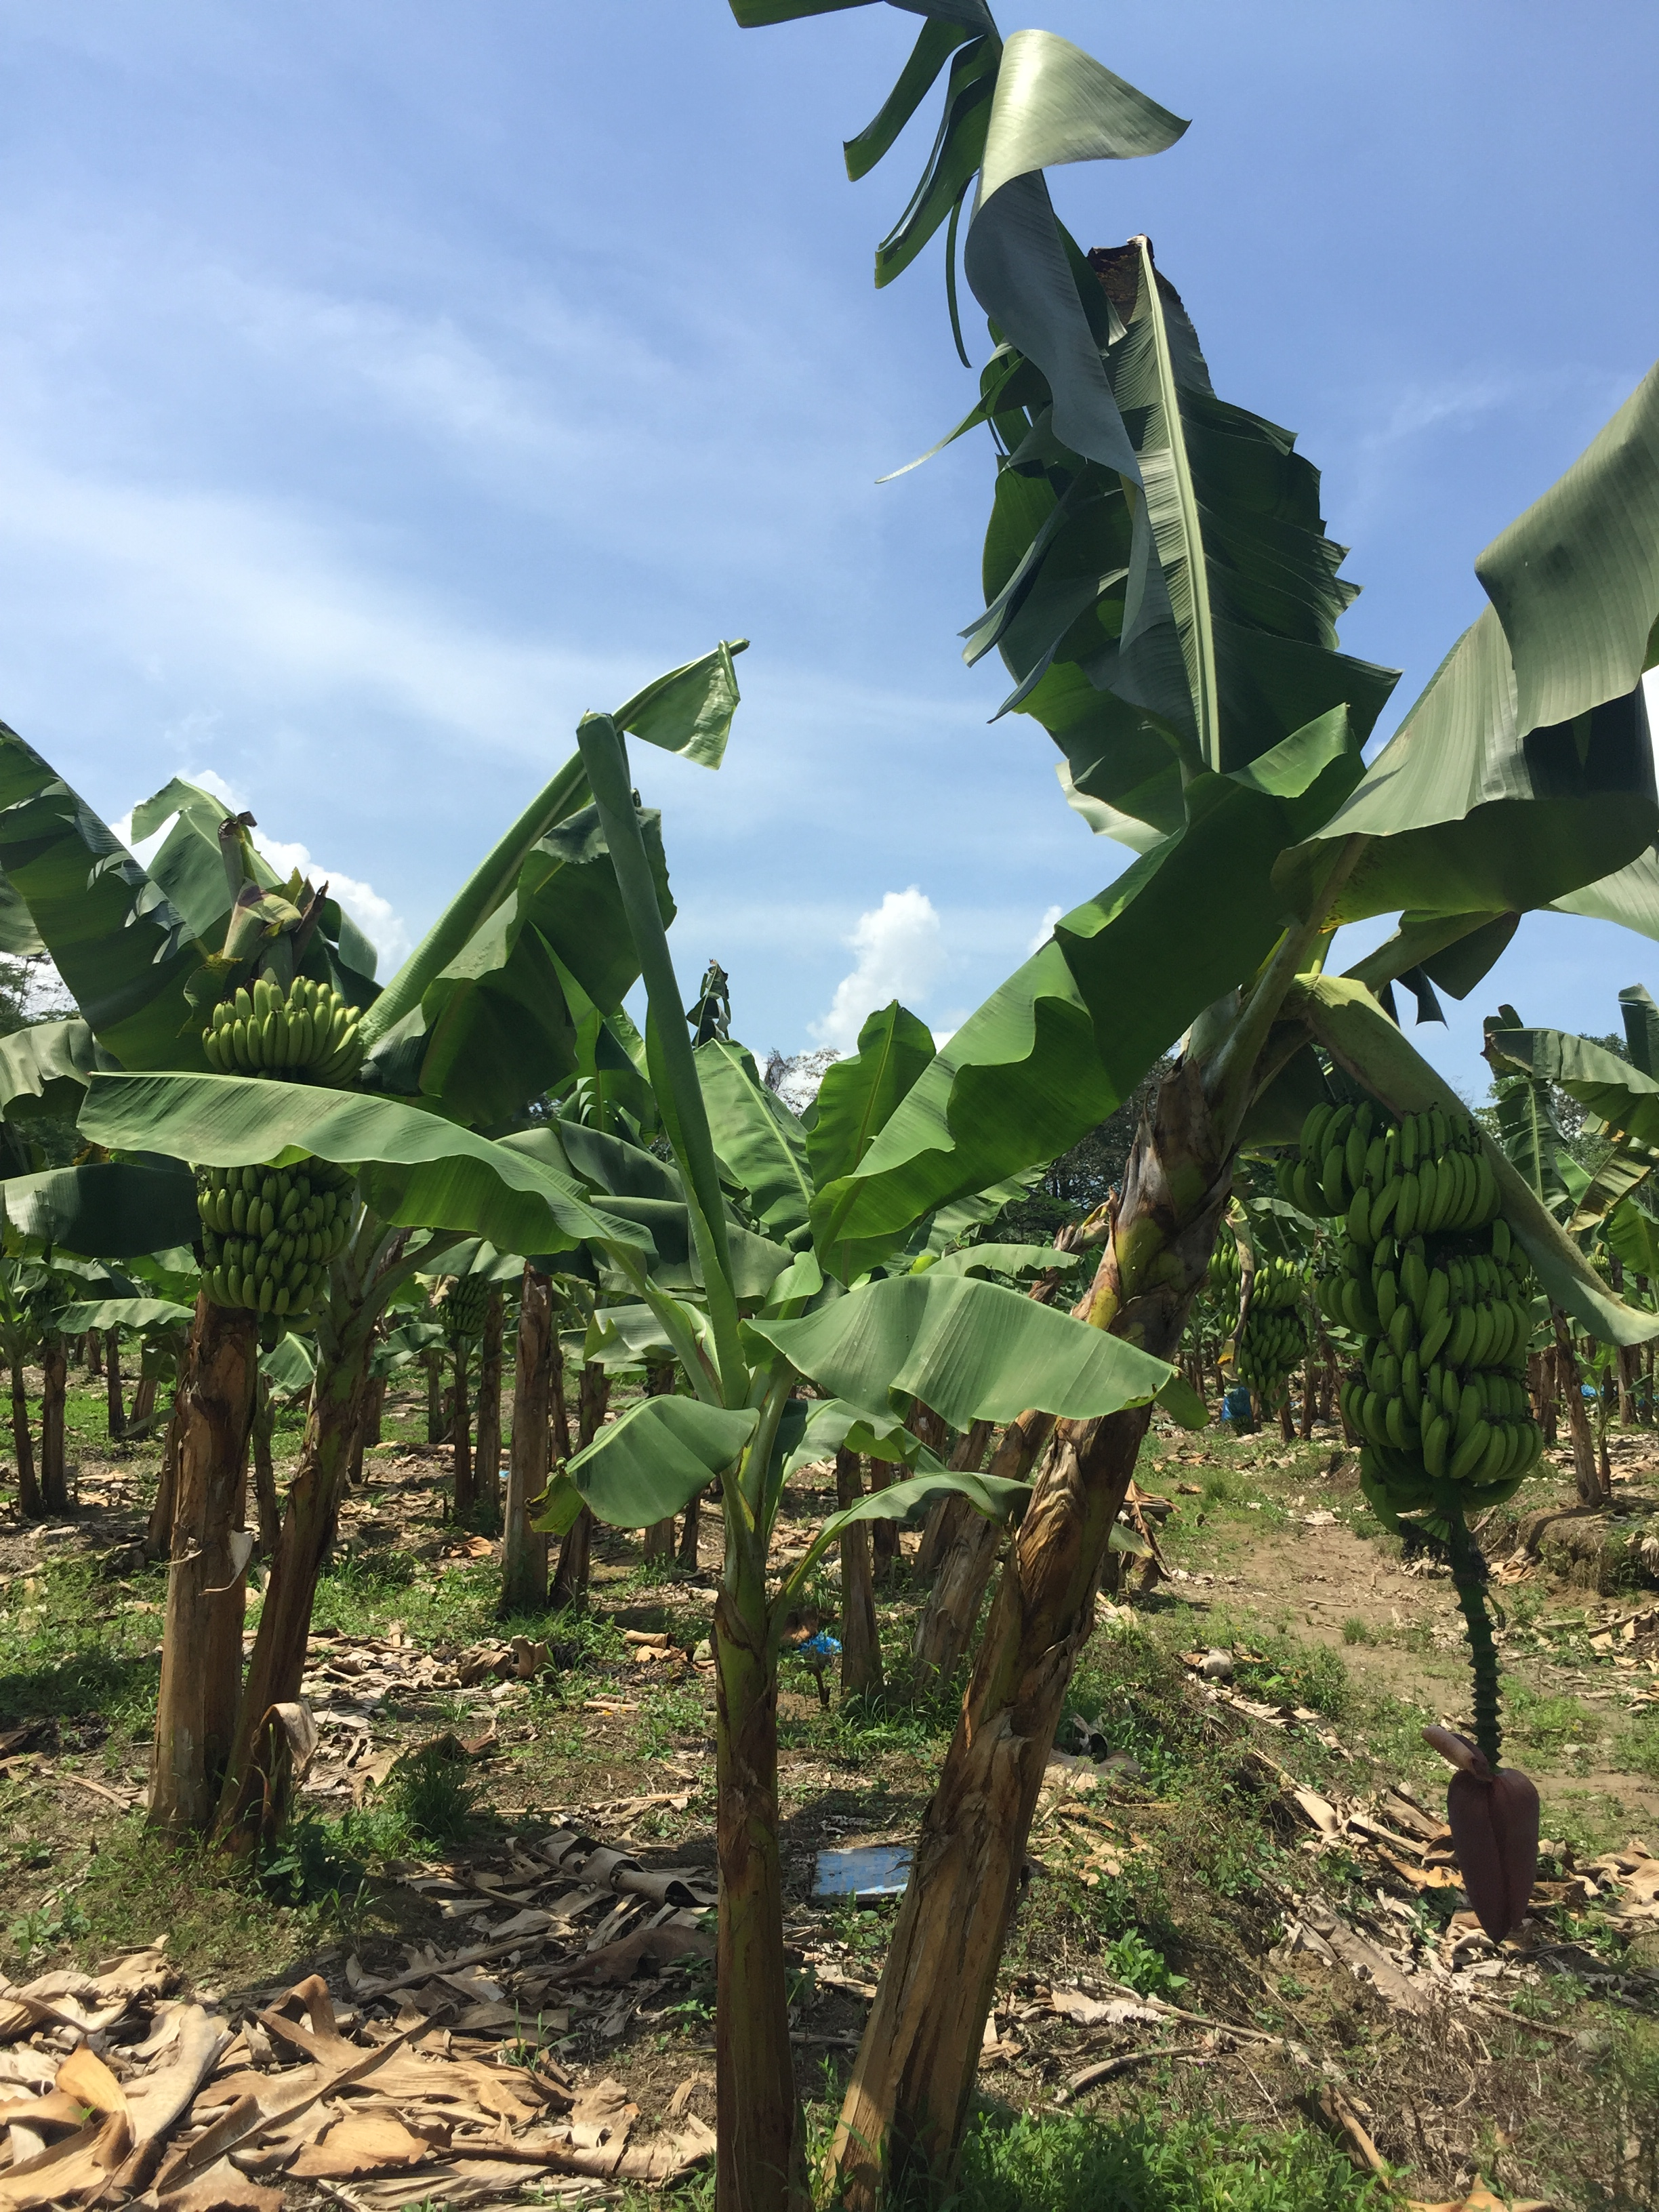candleleafs: (575, 709, 746, 1407)
